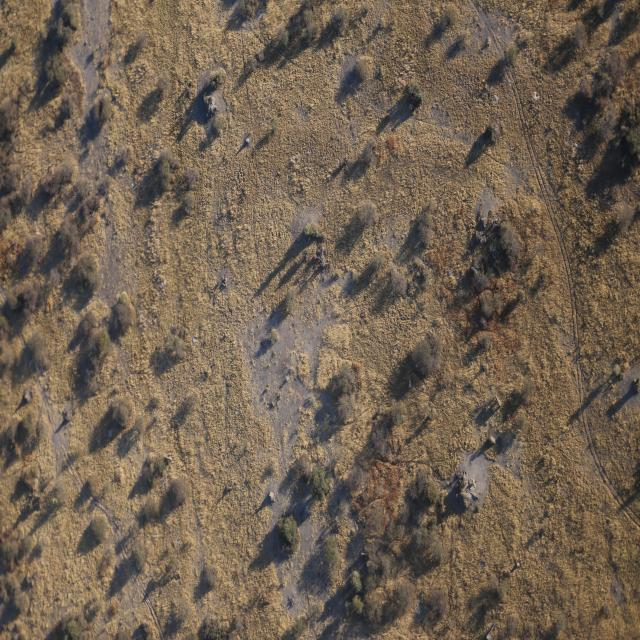elephant: (495, 394, 501, 407), (141, 621, 150, 627), (470, 267, 477, 274), (408, 378, 412, 388), (165, 456, 172, 461), (361, 552, 367, 557), (490, 219, 497, 222), (492, 252, 495, 258), (168, 453, 171, 455)
